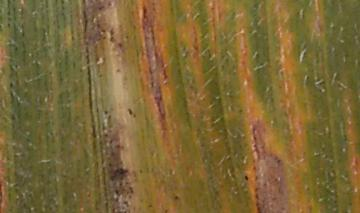tarspot: (109, 168, 131, 182), (125, 106, 138, 119), (140, 4, 149, 20), (108, 27, 114, 43), (127, 184, 136, 194), (115, 41, 124, 49), (115, 67, 122, 76), (242, 173, 249, 182), (96, 4, 106, 10), (146, 202, 154, 209), (275, 158, 282, 165), (173, 194, 181, 200), (100, 35, 108, 41), (100, 28, 108, 34), (9, 80, 14, 89), (114, 189, 120, 196), (163, 207, 168, 213), (101, 109, 107, 114)
